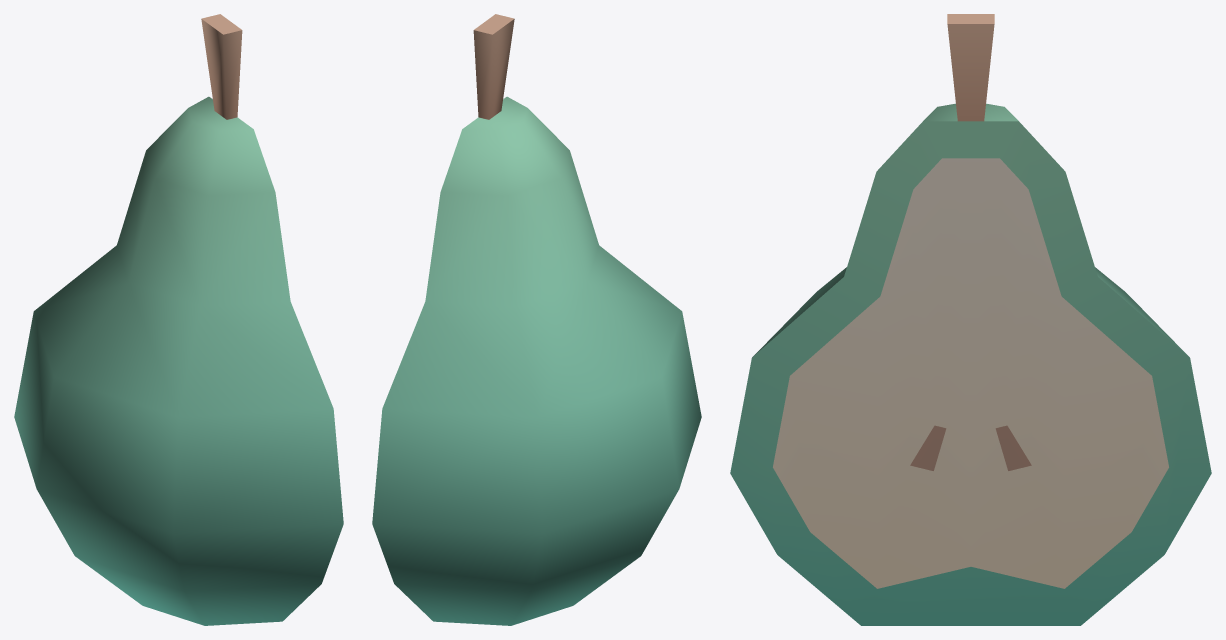
File: pear-half.glb
The picture shows the model from 3 angles, left to right: view 1: azimuth 30°, elevation 25°; view 2: azimuth 150°, elevation 25°; view 3: azimuth 270°, elevation 25°; orthographic projection. The views are drawn at different scales.
Visible parts, largest first — view 1: pear-half; view 2: pear-half; view 3: pear-half.
Part boxes in pixels (bbox=[...]): pear-half: bbox=[14, 14, 343, 625]; pear-half: bbox=[372, 14, 701, 625]; pear-half: bbox=[730, 14, 1211, 625].
Size of the model in its own units: 0.0981 by 0.2708 by 0.1963.
